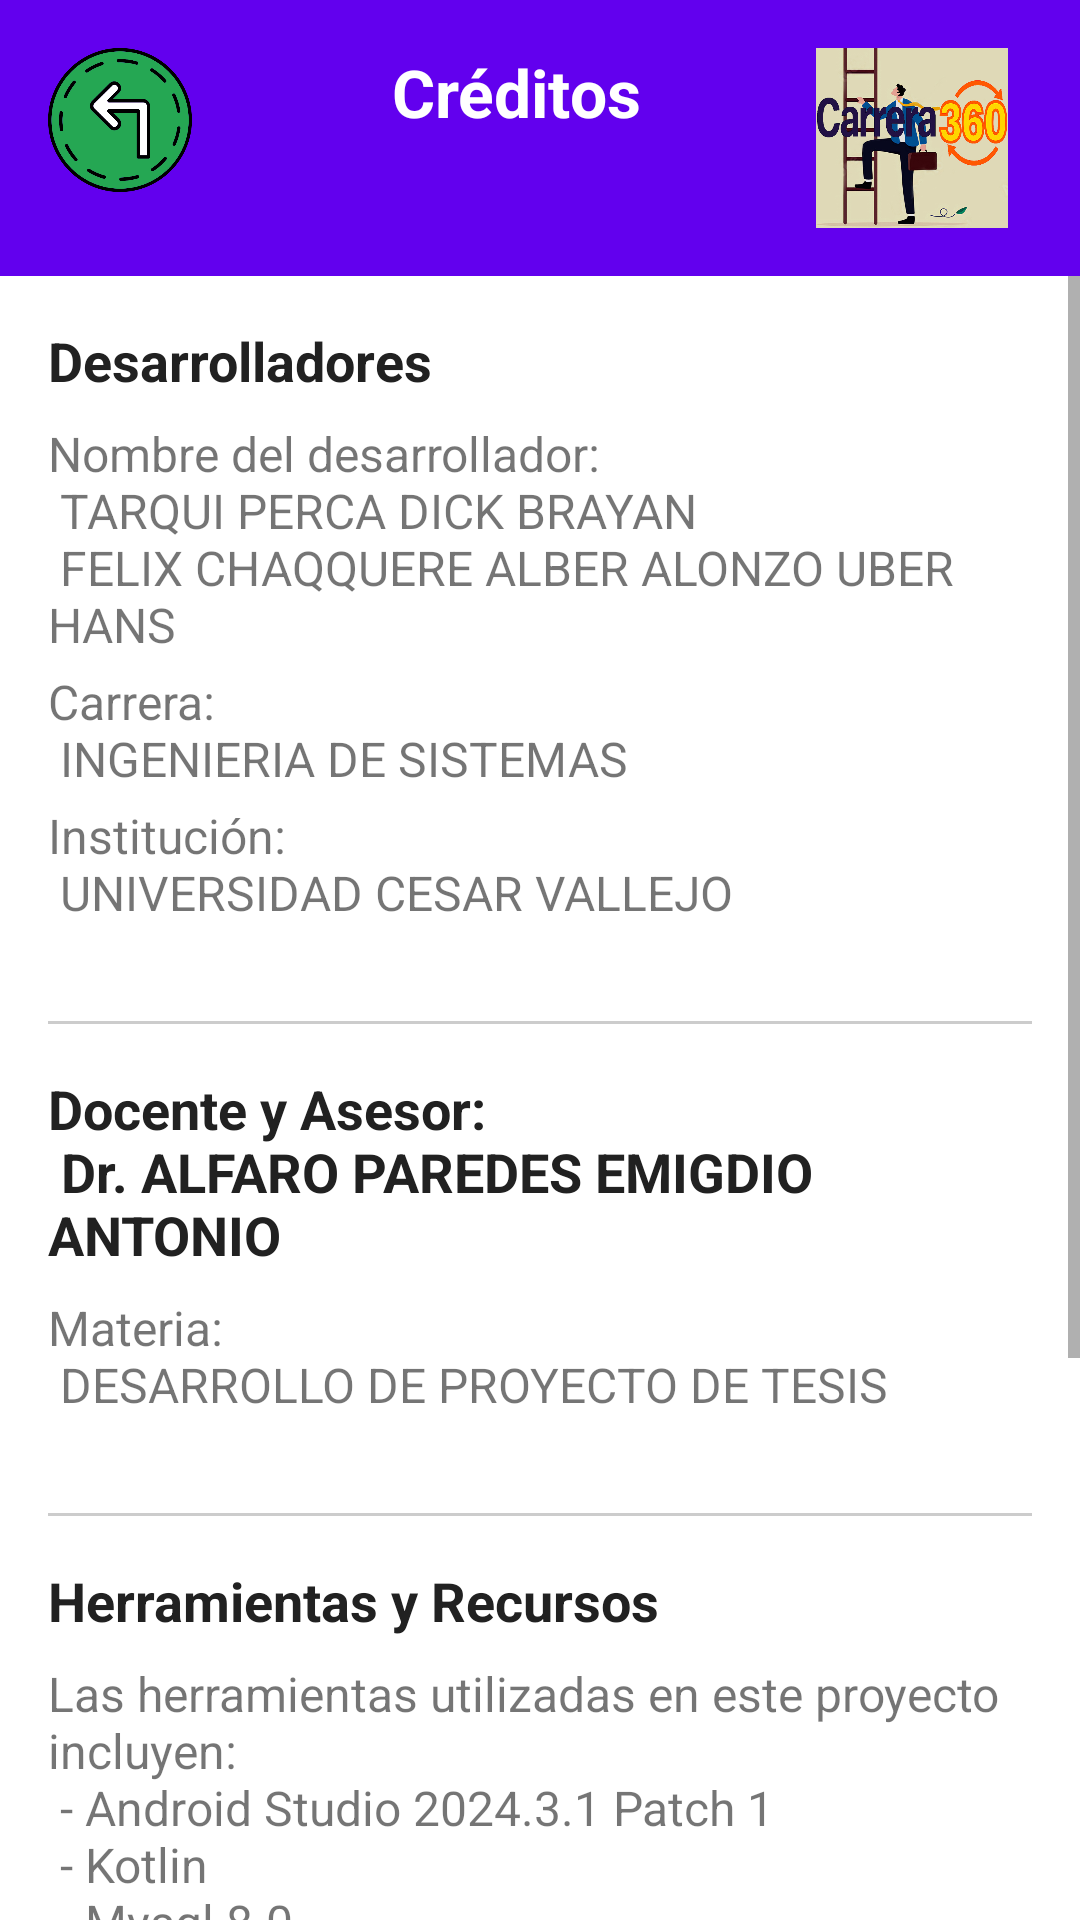

Screen size 1080 x 1920. Icon name, then its box in pixels as (x1, y1, x2, y2):
Regresar a Inicio: (48, 48, 192, 192)
